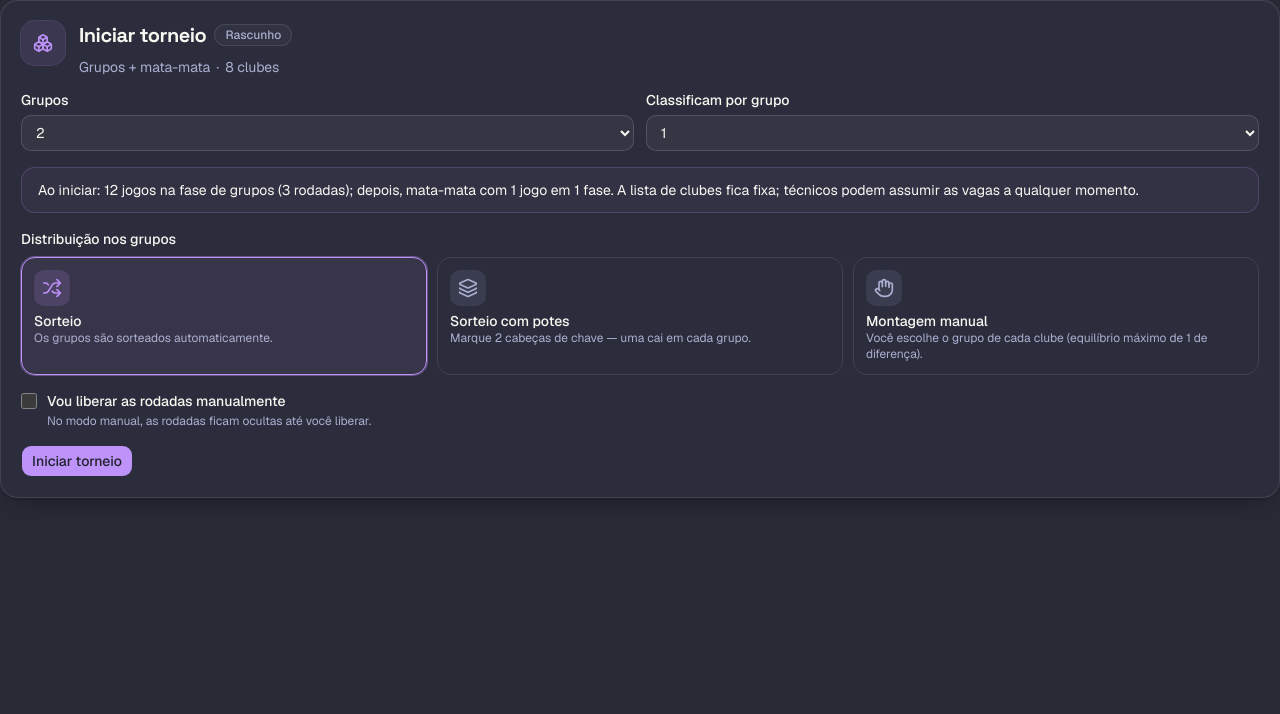
Test: IniciarGruposPanel — modos potes e manual (progressive disclosure) › modo potes revela checkboxes name=cabecas e orienta a marcar G
Click the radio button labelled "Sorteio com potes" at (468,288), box [437, 257, 843, 375]
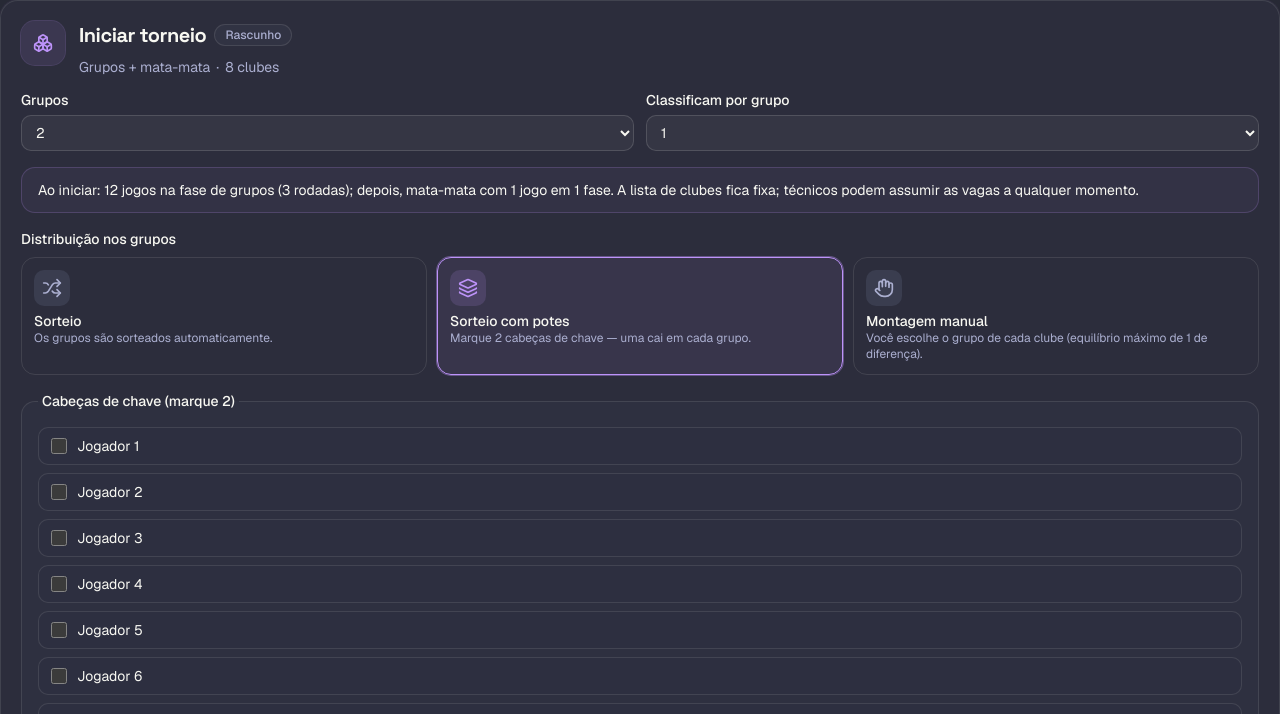
Expected: the text "Marque 2 cabeças de chave — uma cai em cada grupo." is shown, [450, 330, 751, 346]
Expected: the number of checkboxes named "cabecas" is 8
